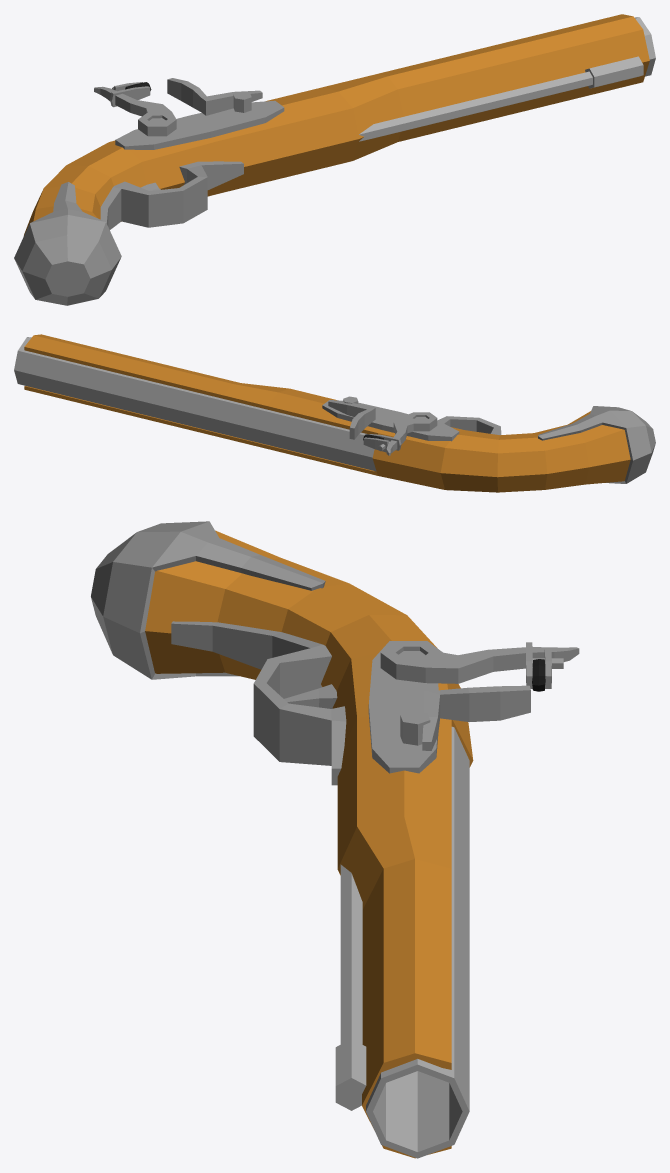
Rendered from flintlock_pistol.fbx.
3 views of the same model, one above another, from view 1: azimuth 30°, elevation 25°; view 2: azimuth 150°, elevation 25°; view 3: azimuth 270°, elevation 25° (orthographic). The views are drawn at different scales.
Visible parts, largest first — view 1: flintlock_pistol; view 2: flintlock_pistol; view 3: flintlock_pistol.
Part boxes in pixels (box(x1,y1,x2,y2)): flintlock_pistol: box(14, 14, 655, 305); flintlock_pistol: box(14, 334, 655, 492); flintlock_pistol: box(91, 521, 579, 1158).
Size of the model in its own units: 0.4629 by 0.0593 by 0.1739.
